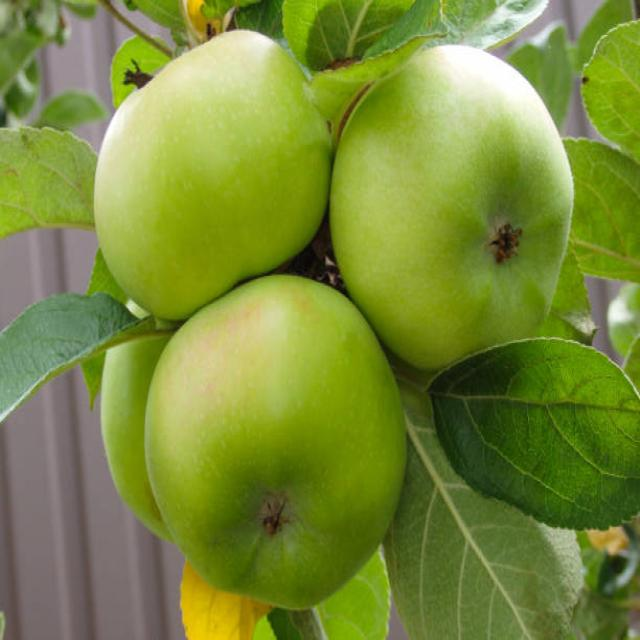Unripe: (144, 274, 406, 612), (329, 46, 572, 368), (96, 27, 332, 321)
